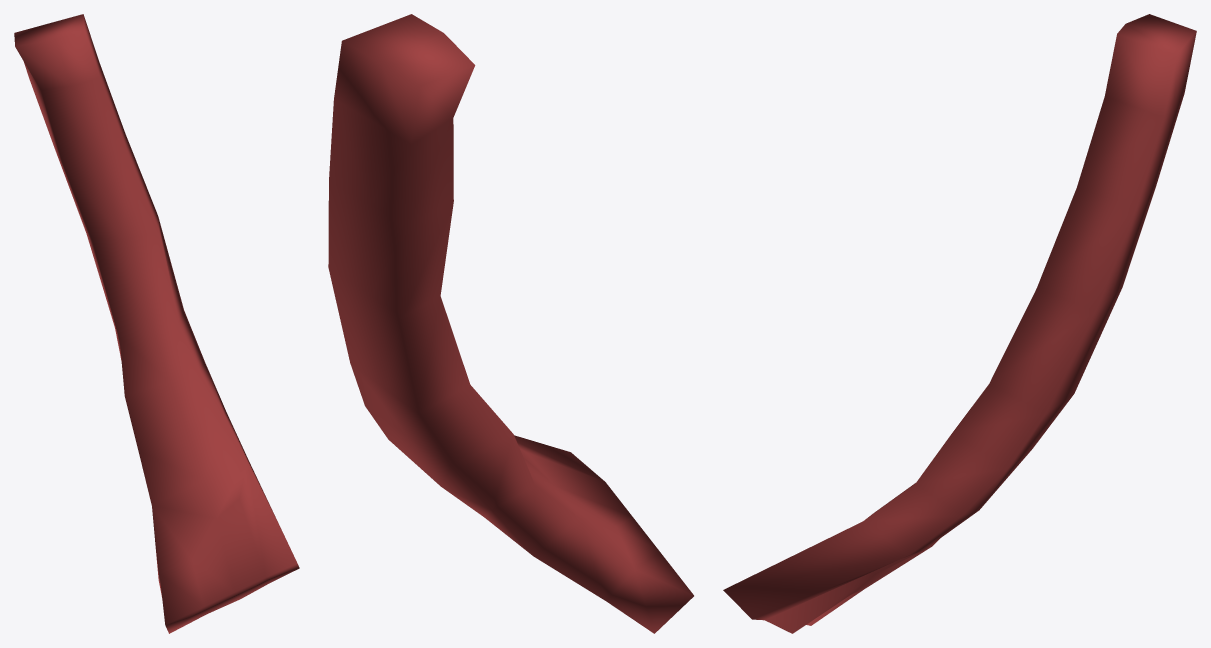
Rendered from tendon-sheath-of-extensor-digitorum-longus-r.glb.
3 renders of one model, left to right at view 1: azimuth 30°, elevation 25°; view 2: azimuth 150°, elevation 25°; view 3: azimuth 270°, elevation 25°, orthographic. The views are drawn at different scales.
Parts seen in each view (by area): view 1: Tendon sheath of extensor digitorum longus.r; view 2: Tendon sheath of extensor digitorum longus.r; view 3: Tendon sheath of extensor digitorum longus.r.
Boxes of the visible parts, x1,y1,x2,y2 form: Tendon sheath of extensor digitorum longus.r: [14, 14, 299, 633]; Tendon sheath of extensor digitorum longus.r: [328, 14, 693, 633]; Tendon sheath of extensor digitorum longus.r: [723, 14, 1196, 633].
Size of the model in its own units: 0.0206 by 0.0728 by 0.0507.
